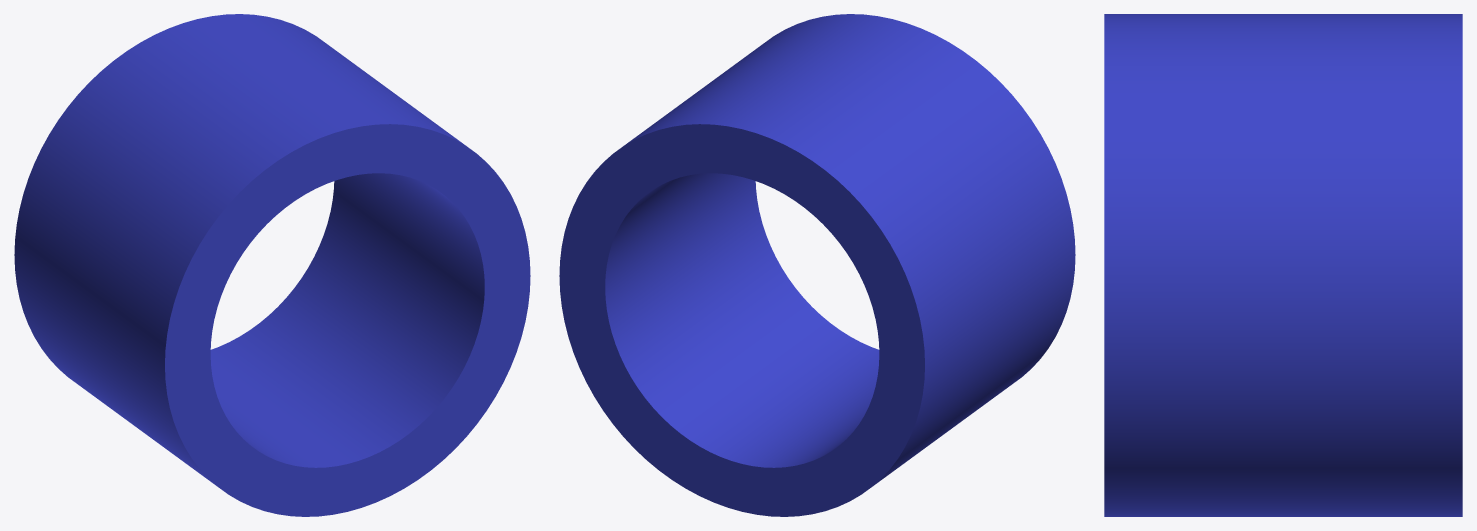
Rendered from Bez naslova.fbx.
3 views of the same model, side by side, from view 1: azimuth 30°, elevation 25°; view 2: azimuth 150°, elevation 25°; view 3: azimuth 270°, elevation 25° (orthographic). The views are drawn at different scales.
Parts seen in each view (by area): view 1: root; view 2: root; view 3: root.
Boxes of the visible parts, x1,y1,x2,y2 form: root: (14,14,530,516); root: (559,14,1075,516); root: (1104,14,1462,516).
Size of the model in its own units: 0.8098 by 0.8098 by 0.5771.
